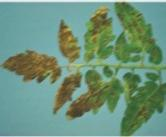Tomato Septoria leaf spot: (112, 2, 162, 63), (117, 74, 163, 134), (84, 6, 116, 62), (104, 69, 122, 113), (114, 29, 130, 64)
